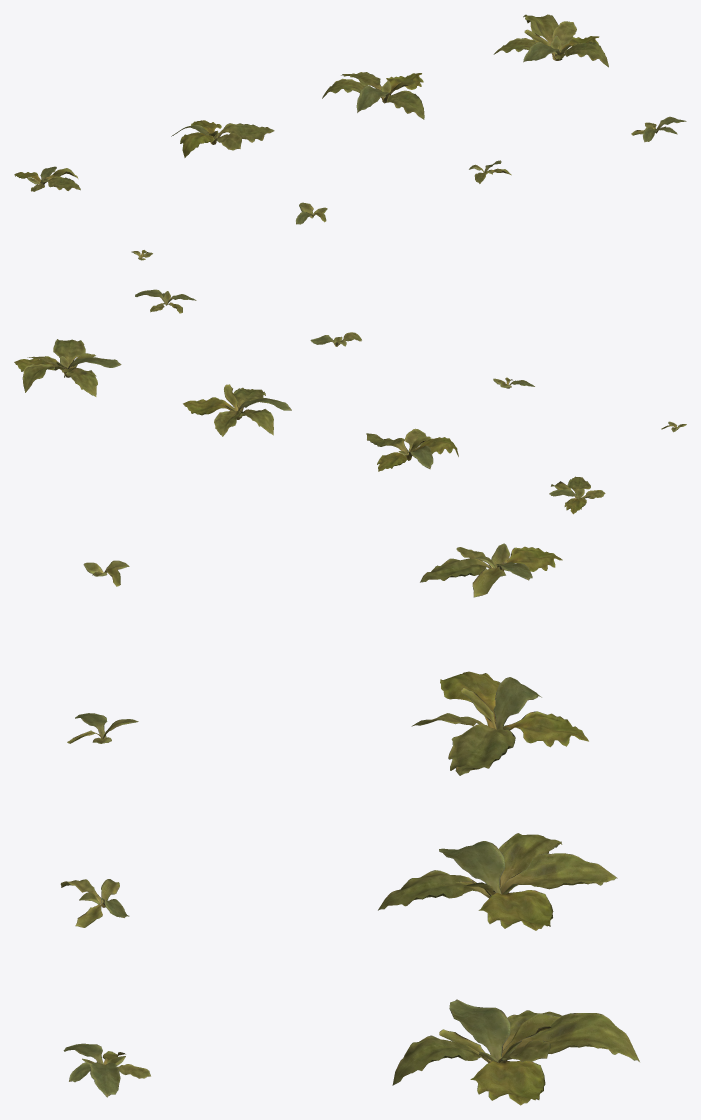
File: crystalline_iceplant.glb
The picture shows the model from 3 angles, top to bottom: view 1: azimuth 30°, elevation 25°; view 2: azimuth 150°, elevation 25°; view 3: azimuth 270°, elevation 25°; orthographic projection. The views are drawn at different scales.
Visible parts, largest first — view 1: crystalline_iceplant_a_LOD0, crystalline_iceplant_b_LOD0, crystalline_iceplant_c_LOD0, crystalline_iceplant_d_LOD0, crystalline_iceplant_e_LOD0, crystalline_iceplant_g_LOD0; view 2: crystalline_iceplant_a_LOD0, crystalline_iceplant_b_LOD0, crystalline_iceplant_c_LOD0, crystalline_iceplant_d_LOD0, crystalline_iceplant_e_LOD0, crystalline_iceplant_f_LOD0; view 3: crystalline_iceplant_a_LOD0, crystalline_iceplant_b_LOD0, crystalline_iceplant_c_LOD0, crystalline_iceplant_d_LOD0, crystalline_iceplant_e_LOD0, crystalline_iceplant_f_LOD0.
Boxes of the visible parts, x1=… form: crystalline_iceplant_a_LOD0: x1=493, y1=14, x2=608, y2=67; crystalline_iceplant_b_LOD0: x1=322, y1=72, x2=424, y2=119; crystalline_iceplant_c_LOD0: x1=171, y1=120, x2=274, y2=157; crystalline_iceplant_d_LOD0: x1=14, y1=166, x2=80, y2=191; crystalline_iceplant_e_LOD0: x1=631, y1=116, x2=686, y2=142; crystalline_iceplant_g_LOD0: x1=296, y1=202, x2=327, y2=224; crystalline_iceplant_a_LOD0: x1=14, y1=339, x2=121, y2=396; crystalline_iceplant_b_LOD0: x1=183, y1=384, x2=291, y2=436; crystalline_iceplant_c_LOD0: x1=366, y1=428, x2=458, y2=471; crystalline_iceplant_d_LOD0: x1=549, y1=476, x2=605, y2=514; crystalline_iceplant_e_LOD0: x1=135, y1=289, x2=196, y2=313; crystalline_iceplant_f_LOD0: x1=310, y1=332, x2=361, y2=346; crystalline_iceplant_a_LOD0: x1=392, y1=999, x2=639, y2=1105; crystalline_iceplant_b_LOD0: x1=378, y1=833, x2=617, y2=930; crystalline_iceplant_c_LOD0: x1=411, y1=671, x2=588, y2=775; crystalline_iceplant_d_LOD0: x1=420, y1=543, x2=562, y2=597; crystalline_iceplant_e_LOD0: x1=63, y1=1043, x2=150, y2=1097; crystalline_iceplant_f_LOD0: x1=60, y1=879, x2=129, y2=927.
Size of the model in its own units: 1.69 by 0.0822 by 0.7379.
1 material, 1 textured.
